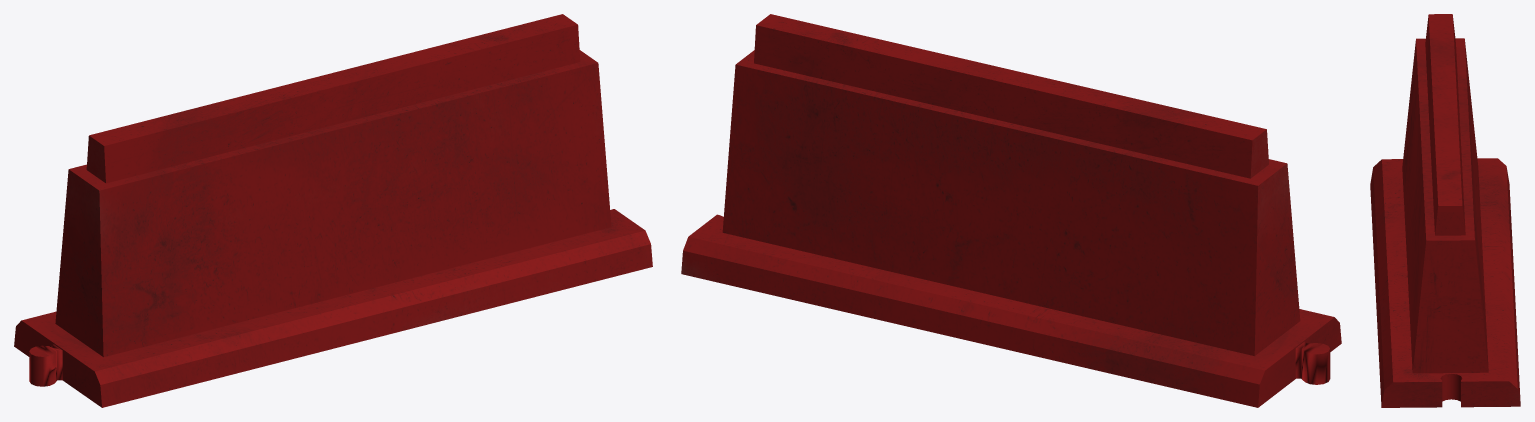
The model's file is Road_Blocker_Red.fbx.
3 renders of one model, left to right at view 1: azimuth 30°, elevation 25°; view 2: azimuth 150°, elevation 25°; view 3: azimuth 270°, elevation 25°, orthographic. The views are drawn at different scales.
Visible parts, largest first — view 1: Road_Blocker_Red.002; view 2: Road_Blocker_Red.002; view 3: Road_Blocker_Red.002.
Boxes of the visible parts, x1,y1,x2,y2 form: Road_Blocker_Red.002: (14,14,652,407); Road_Blocker_Red.002: (681,14,1341,407); Road_Blocker_Red.002: (1370,14,1520,407).
Size of the model in its own units: 73.62 by 27.18 by 19.96.
Materials: 1 (1 with a texture image).
